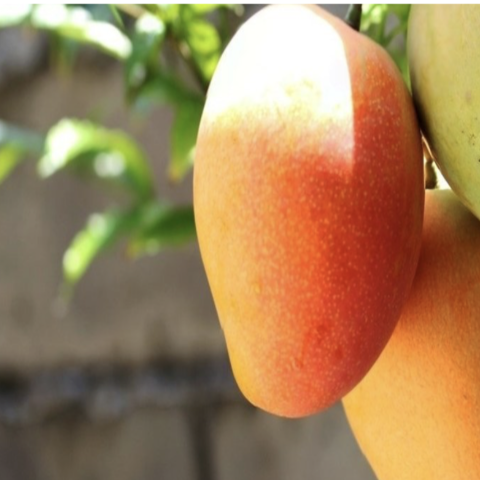mango: (172, 2, 458, 459)
